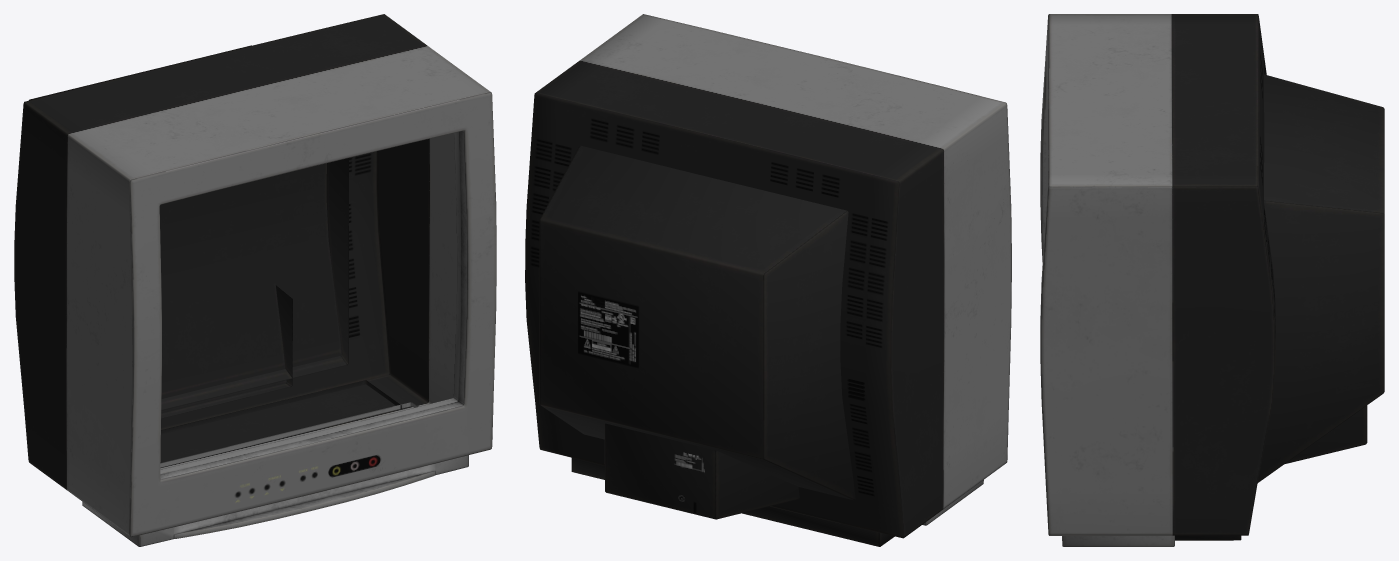
File: staticmodels-tvbody.gltf
3 renders of one model, left to right at view 1: azimuth 30°, elevation 25°; view 2: azimuth 150°, elevation 25°; view 3: azimuth 270°, elevation 25°, orthographic. The views are drawn at different scales.
Parts seen in each view (by area): view 1: tvbody; view 2: tvbody; view 3: tvbody.
Boxes of the visible parts, x1,y1,x2,y2 form: tvbody: (14, 14, 496, 546); tvbody: (525, 14, 1011, 546); tvbody: (1040, 14, 1384, 546).
Size of the model in its own units: 1.96 by 1.94 by 1.64.
Materials: 1 (1 with a texture image).
